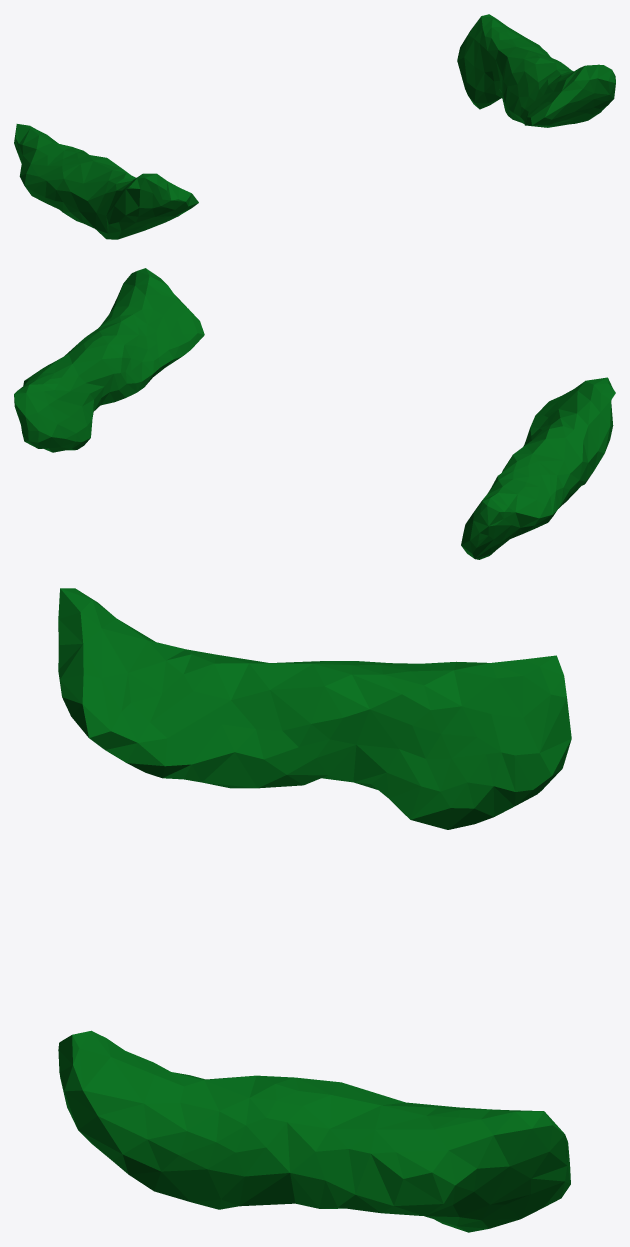
File: 59-35-area 35 of cortex-('0.0000', '0.4980', '0.1137').obj
The picture shows the model from 3 angles, top to bottom: view 1: azimuth 30°, elevation 25°; view 2: azimuth 150°, elevation 25°; view 3: azimuth 270°, elevation 25°; orthographic projection. The views are drawn at different scales.
Size of the model in its own units: 162 by 31.55 by 69.22.
